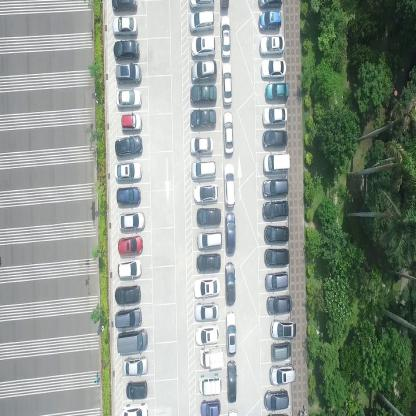car: (117, 327, 148, 354), (115, 306, 142, 330), (262, 152, 290, 175), (189, 10, 215, 34), (269, 362, 295, 386), (263, 388, 289, 412), (115, 135, 143, 157), (199, 344, 223, 369), (194, 273, 220, 296), (198, 371, 221, 396), (190, 108, 216, 130), (191, 60, 217, 82), (190, 35, 216, 57), (270, 318, 296, 340), (266, 293, 292, 315), (119, 209, 146, 230), (261, 178, 288, 199), (114, 284, 141, 305), (193, 181, 218, 203), (194, 301, 219, 323), (116, 63, 142, 84), (113, 16, 139, 37), (114, 40, 140, 61), (258, 36, 285, 56), (224, 161, 236, 206), (190, 134, 214, 156), (264, 270, 288, 292), (123, 354, 148, 375), (118, 235, 143, 256), (262, 108, 288, 128), (261, 200, 287, 220), (262, 224, 288, 244), (226, 309, 237, 356), (115, 161, 142, 180), (262, 248, 289, 267), (196, 251, 220, 272), (194, 323, 218, 344), (117, 88, 142, 108), (117, 258, 142, 278), (196, 206, 221, 226), (222, 109, 233, 154), (225, 210, 236, 255), (196, 229, 222, 248), (190, 85, 217, 103), (190, 160, 217, 178), (221, 61, 232, 105), (126, 378, 148, 400), (264, 83, 288, 103), (258, 11, 282, 31), (261, 130, 287, 148), (225, 260, 235, 306), (117, 187, 141, 206), (260, 60, 285, 78), (121, 400, 149, 416), (220, 14, 230, 58), (270, 342, 292, 362), (226, 358, 236, 402), (120, 112, 142, 131), (200, 397, 221, 415), (111, 0, 138, 12), (189, 0, 215, 9), (258, 0, 283, 9)
